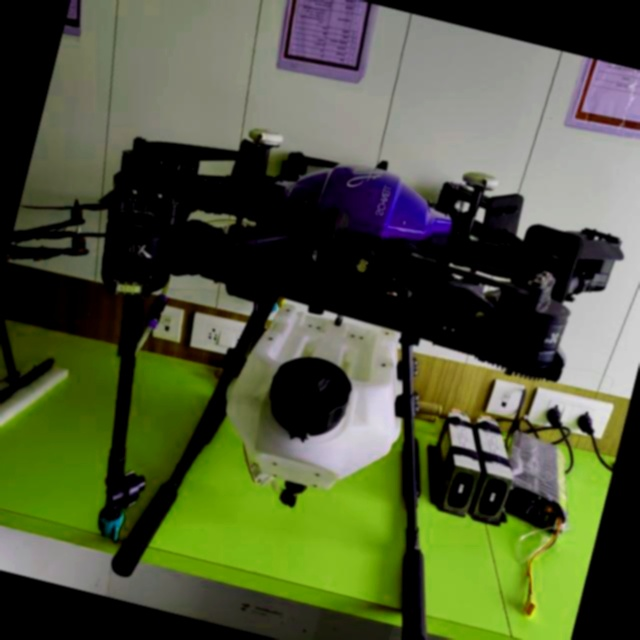agriculturedrone: (0, 79, 634, 640)
